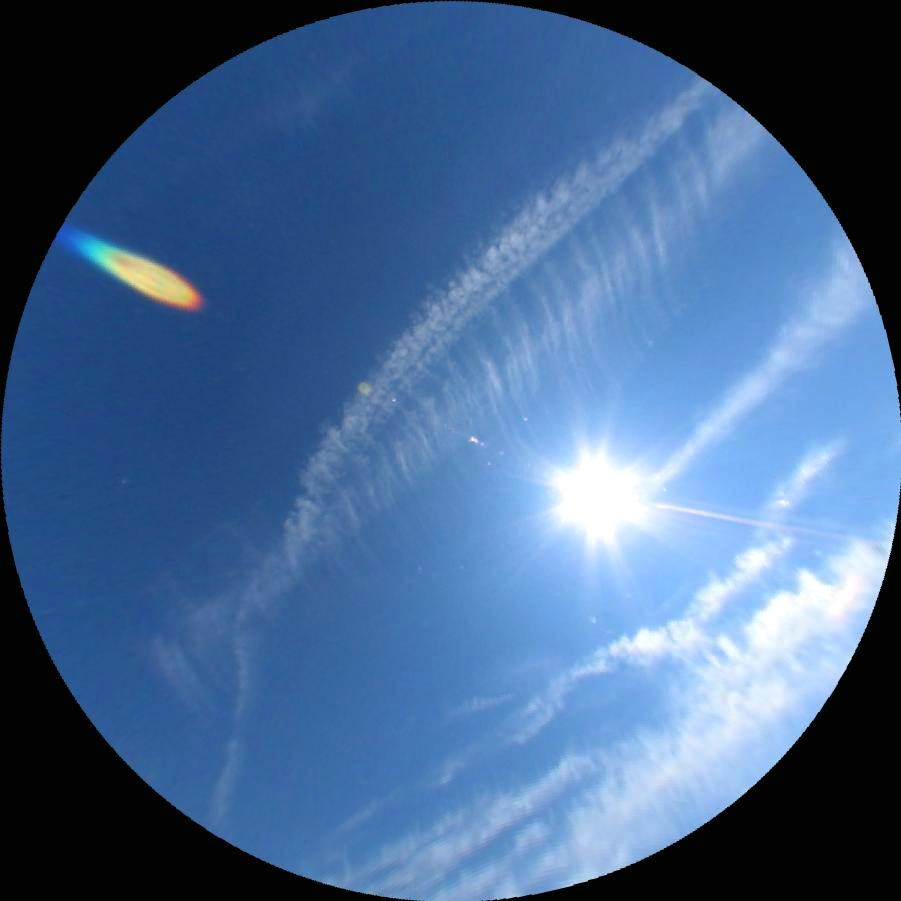contrail veryold: (95, 8, 720, 835), (104, 83, 827, 735), (625, 234, 893, 535)
parasite: (629, 497, 891, 554)
sun: (567, 471, 632, 524)
